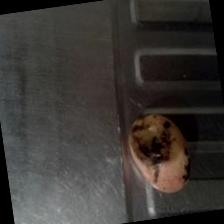Mango Overripe: (125, 106, 196, 202)
